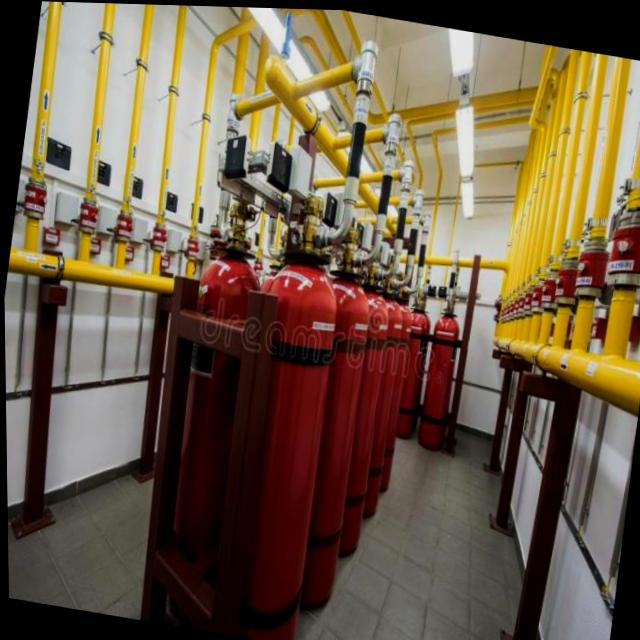FireExtinguisher: (211, 192, 359, 640), (145, 197, 274, 633), (257, 239, 384, 623), (303, 268, 396, 566), (411, 295, 466, 451), (382, 290, 431, 442)
